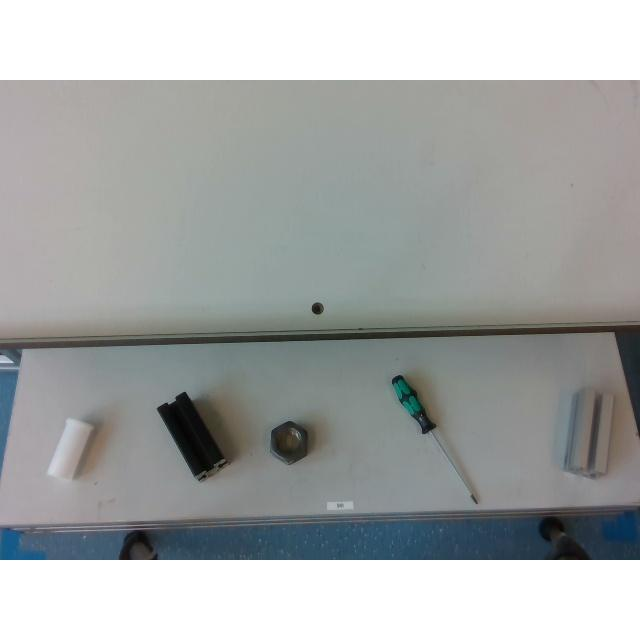M30: (270, 421, 306, 464)
S40_40_B: (157, 392, 227, 480)
S40_40_G: (562, 387, 614, 478)
Screwdriver: (392, 375, 476, 503)
Spacer: (46, 418, 92, 478)
